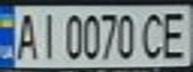0: (60, 10, 84, 61), (115, 10, 139, 61), (81, 10, 103, 61)
7: (100, 10, 118, 61)
A: (12, 9, 39, 61)
C: (139, 9, 169, 61)
E: (157, 7, 193, 61)
I: (33, 9, 60, 61)
